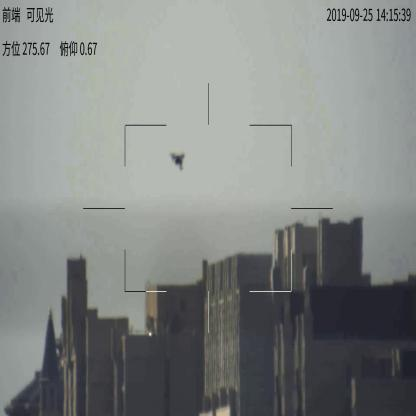uav: (170, 150, 186, 171)
